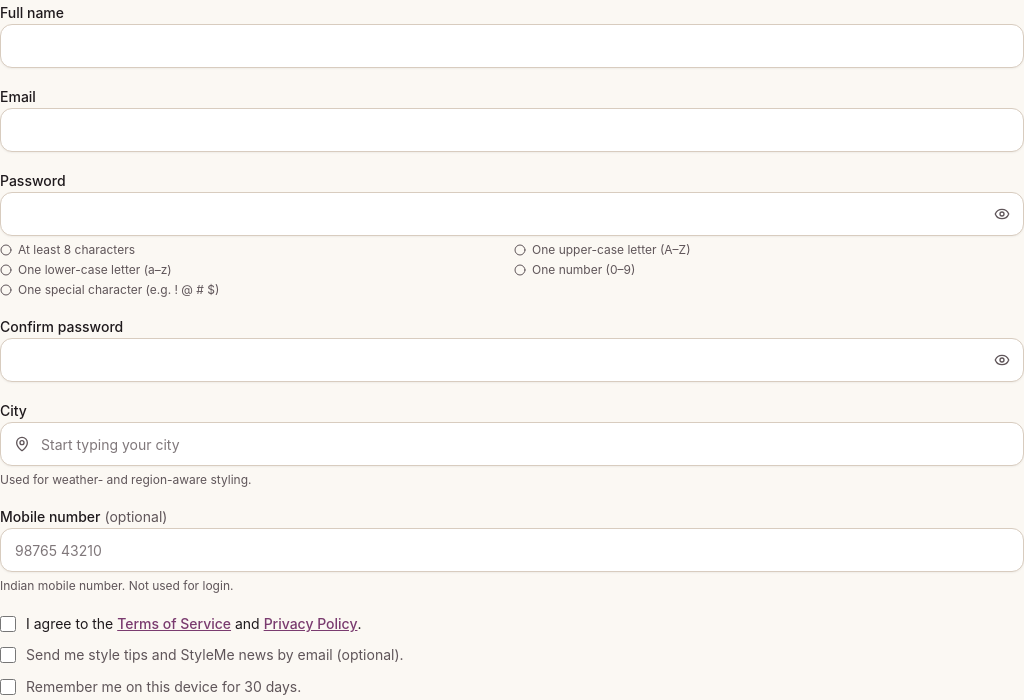
Scenario: registration form (D-87) › shows a mismatch as soon as the confirmation differs
This screenshot has width=1024, height=700.
Type "Secret-Pass-1!" into the password field labelled "Password".
click(512, 214); type("Secret-Pass-1!")  # box [0, 192, 1023, 236]
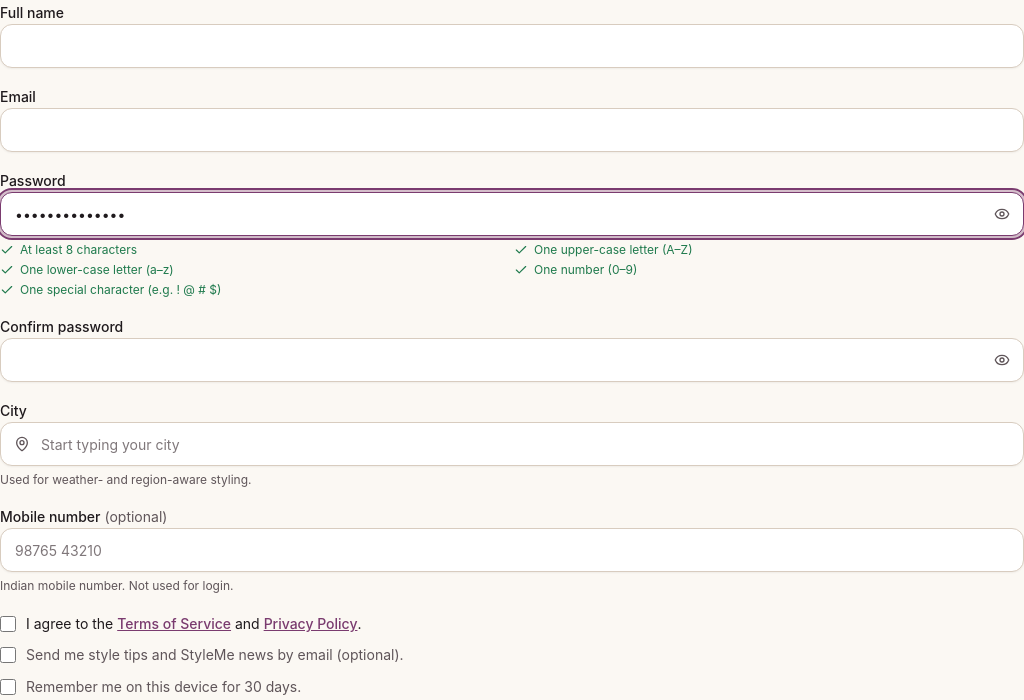
Type "Secret-Pass-2!" into the password field labelled "Confirm password".
click(512, 360); type("Secret-Pass-2!")  # box [0, 338, 1023, 382]
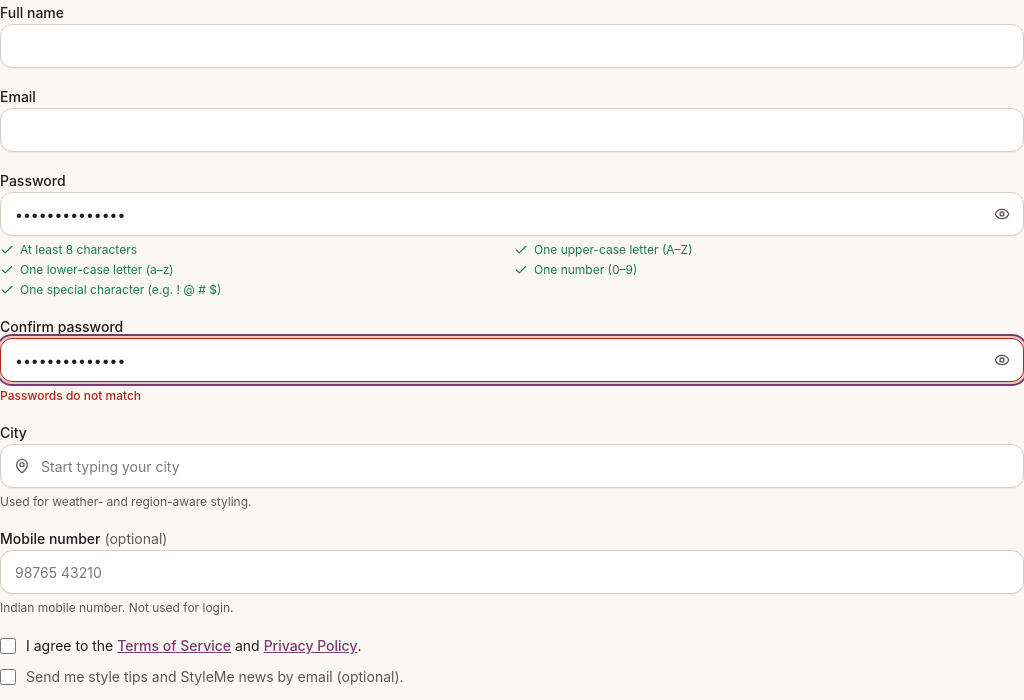
Expected: the text "Passwords do not match" is shown, [0, 388, 141, 403]
